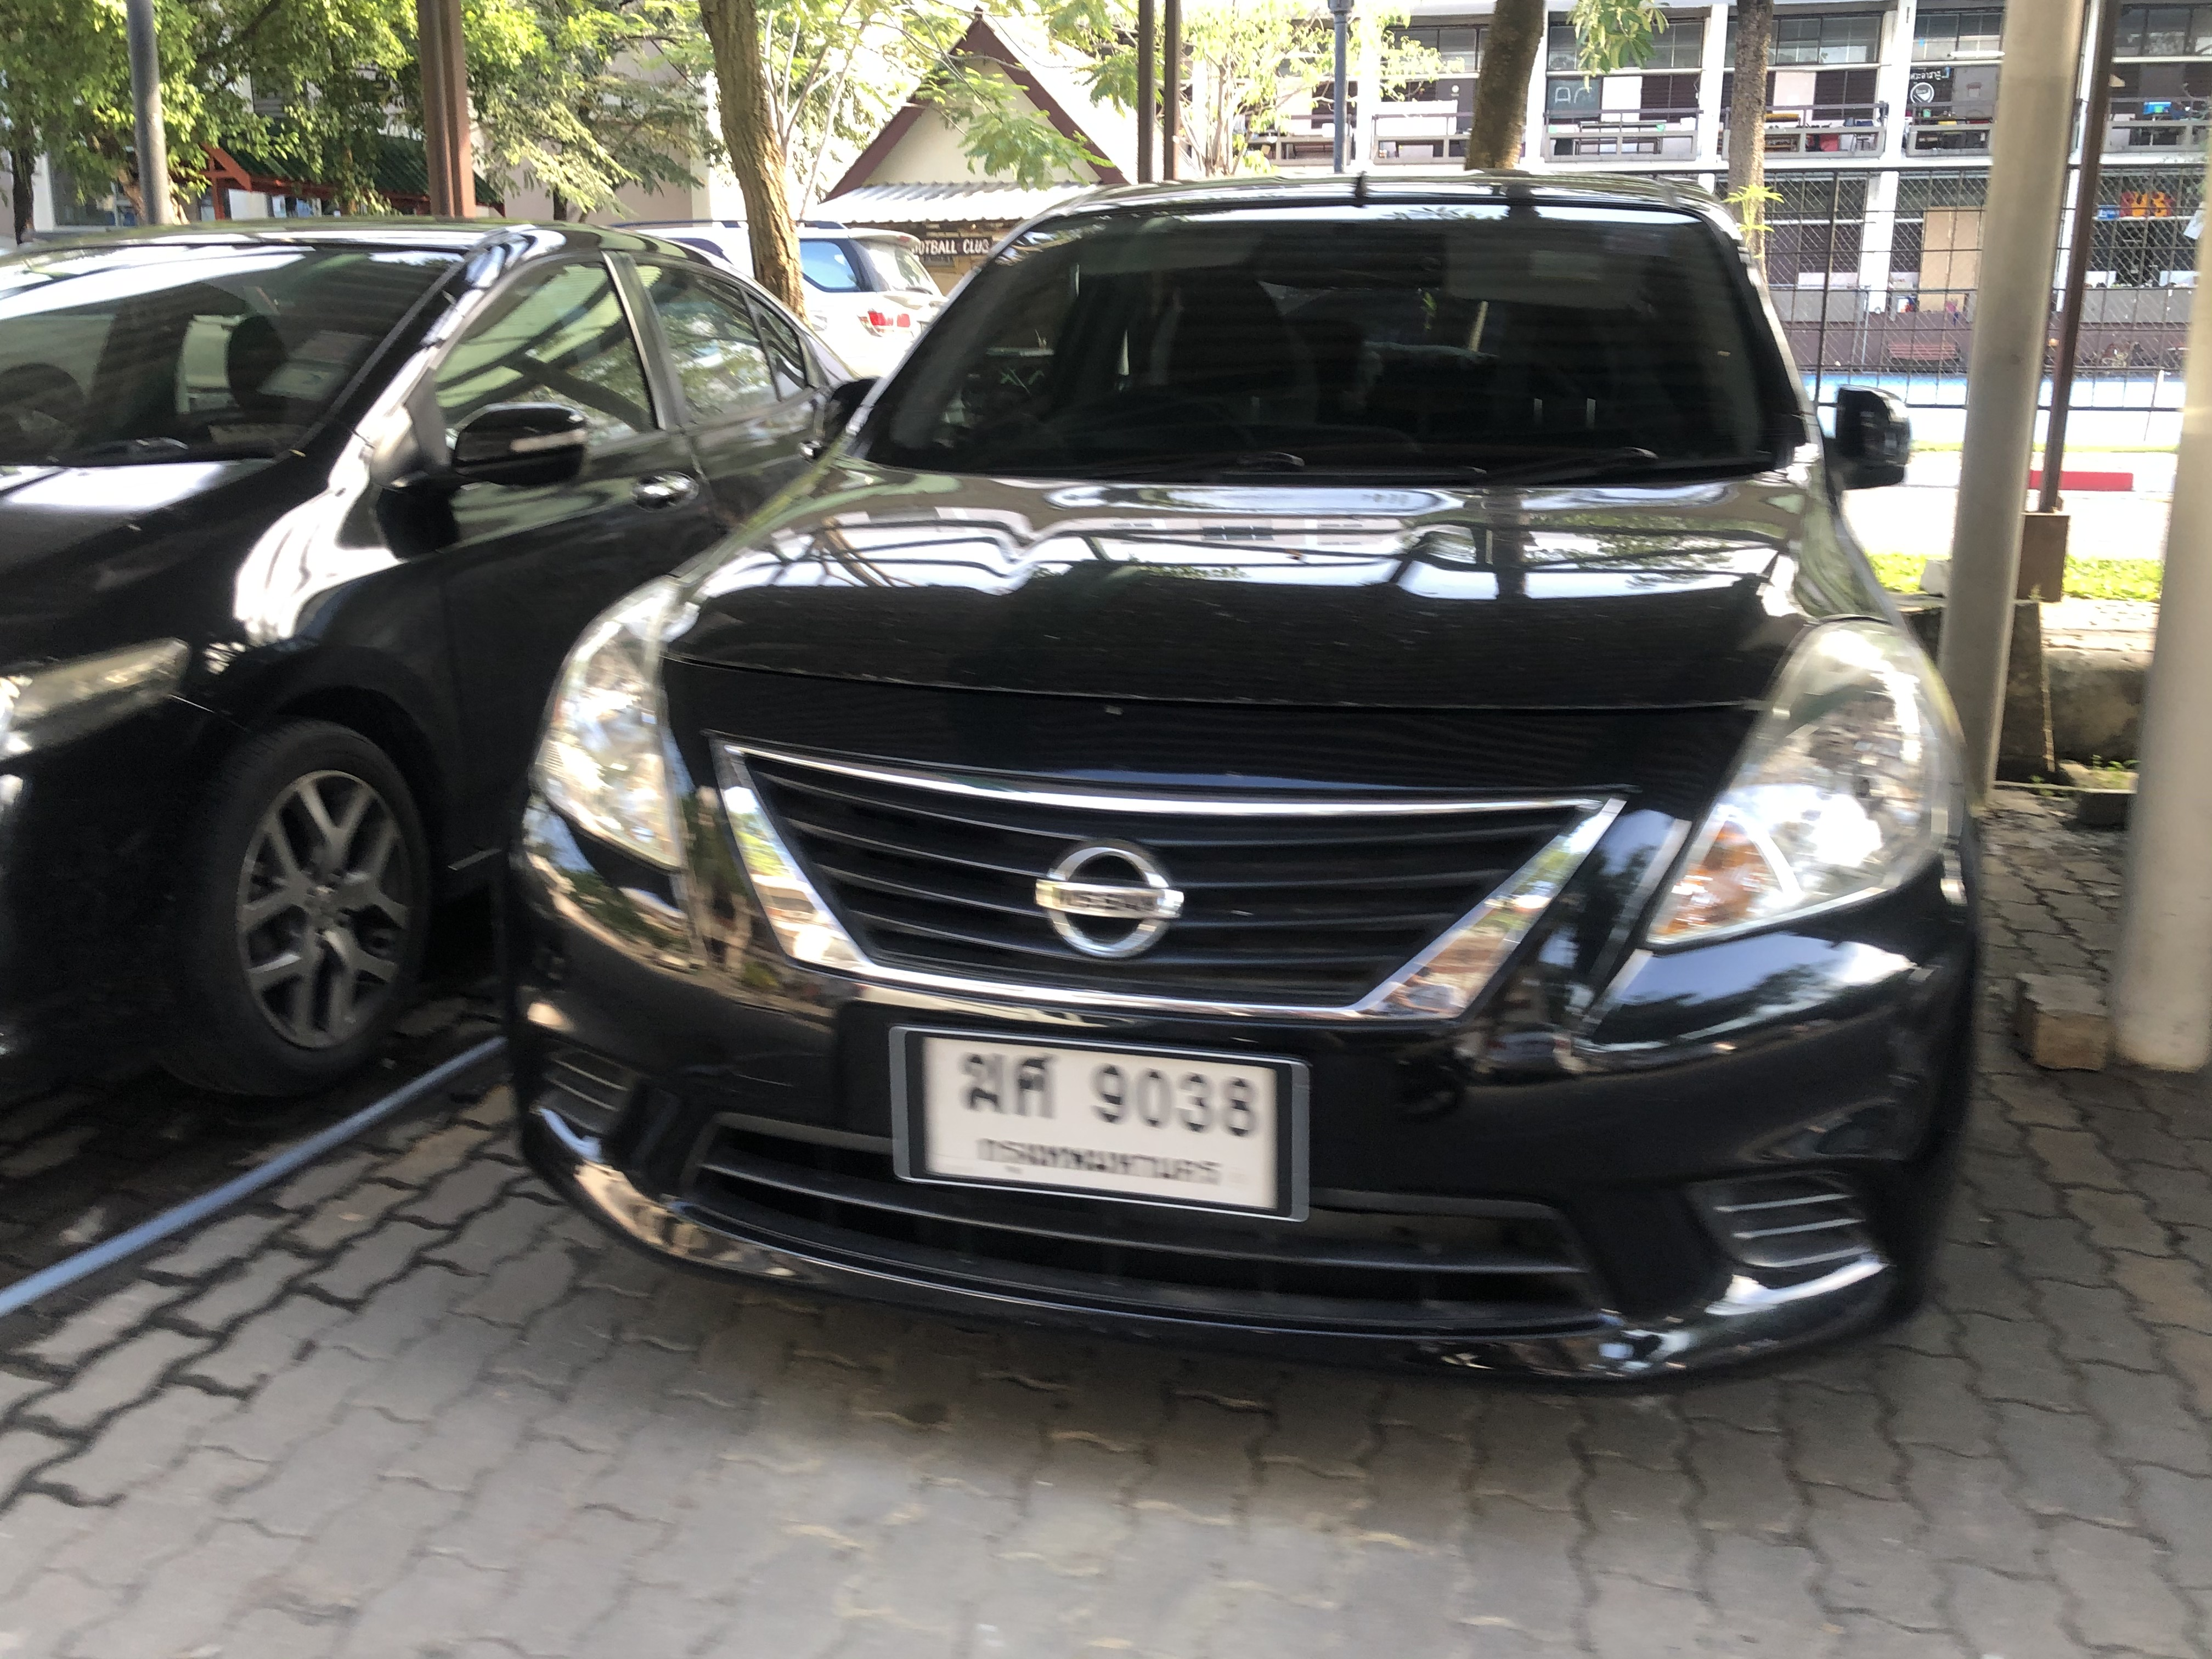in: (923, 1040, 1280, 1208)
out: (885, 1023, 1315, 1230)
